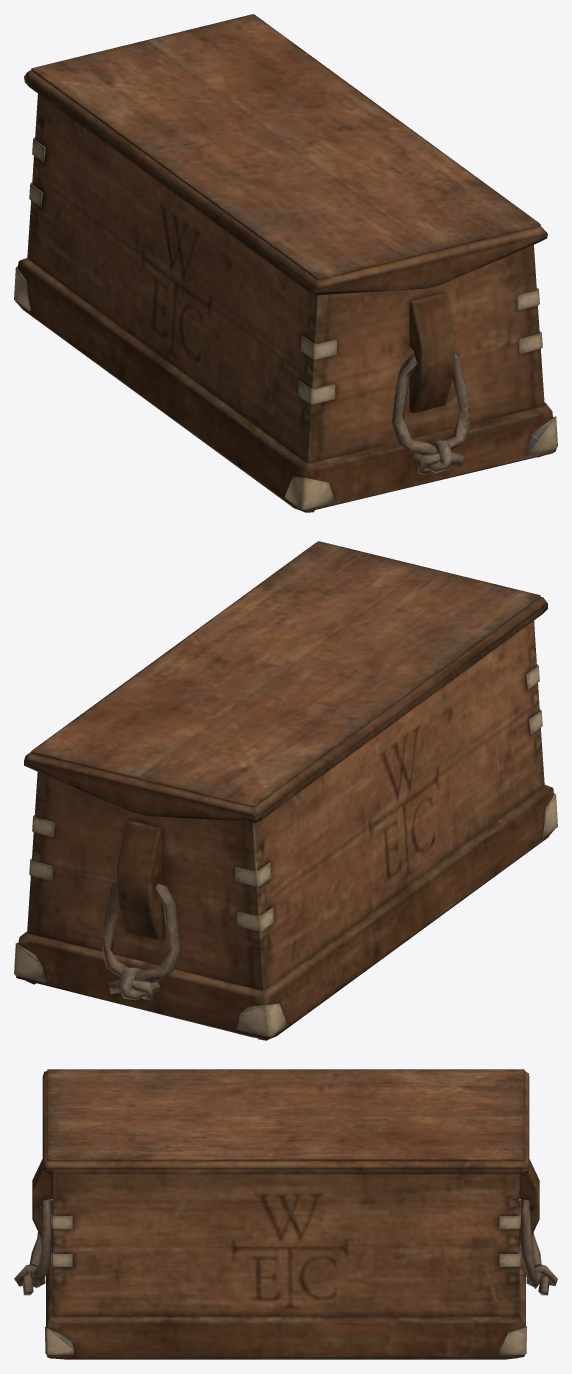
Rendered from wooden_crate_02.glb.
3 views of the same model, one above another, from view 1: azimuth 30°, elevation 25°; view 2: azimuth 150°, elevation 25°; view 3: azimuth 270°, elevation 25° (orthographic). The views are drawn at different scales.
Visible parts, largest first — view 1: wooden_crate_02_crate, wooden_crate_02_lid; view 2: wooden_crate_02_crate, wooden_crate_02_lid; view 3: wooden_crate_02_crate, wooden_crate_02_lid.
Part boxes in pixels (x1,y1,x2,y2): wooden_crate_02_crate: (14, 94, 557, 512); wooden_crate_02_lid: (24, 14, 547, 295); wooden_crate_02_crate: (14, 621, 557, 1040); wooden_crate_02_lid: (24, 541, 547, 822); wooden_crate_02_crate: (14, 1159, 557, 1359); wooden_crate_02_lid: (42, 1069, 529, 1174).
Size of the model in its own units: 0.5291 by 0.464 by 1.16.
Materials: 1 (1 with a texture image).
